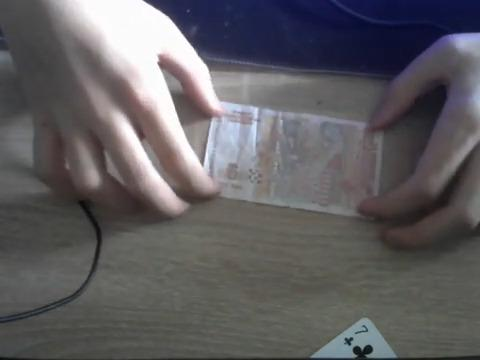5leva: (203, 102, 396, 219)
